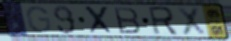9: (52, 4, 78, 35)
B: (112, 7, 143, 35)
G: (25, 5, 53, 34)
R: (146, 5, 180, 37)
X: (83, 5, 117, 36), (175, 6, 208, 37)
